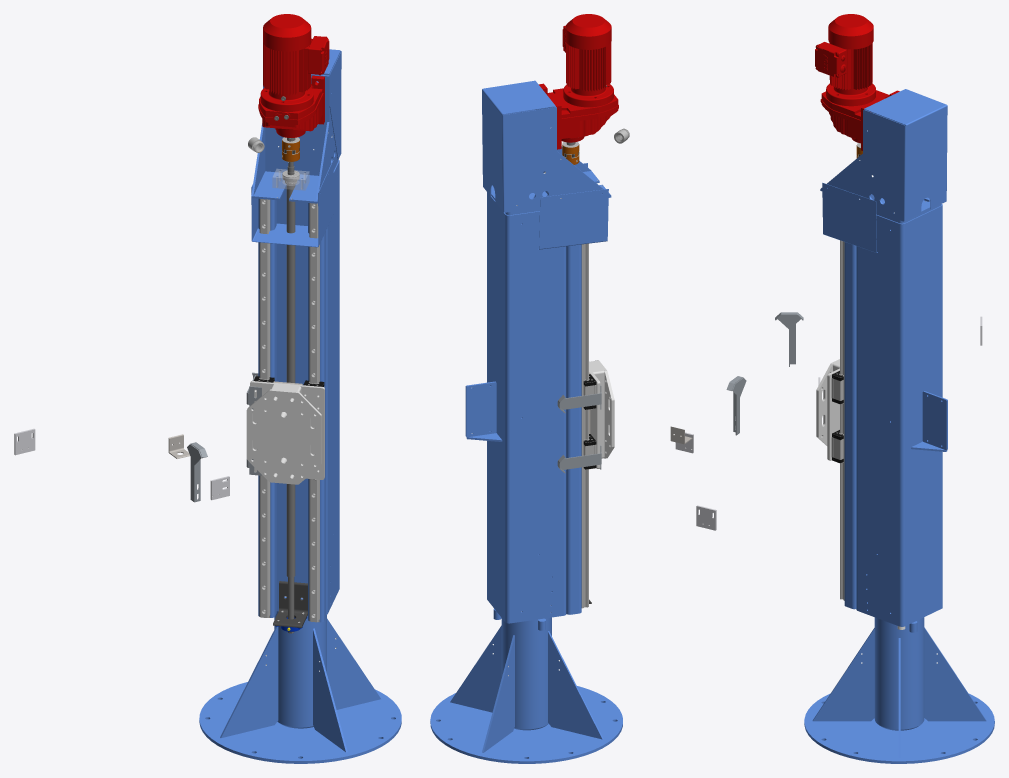
The model's file is CSL.glb.
3 renders of one model, left to right at view 1: azimuth 30°, elevation 25°; view 2: azimuth 150°, elevation 25°; view 3: azimuth 270°, elevation 25°, orthographic. The views are drawn at different scales.
Parts seen in each view (by area): view 1: CSL-001-1, CSL-003-2, MOTR-031.stp-1, CSL-004-B-2, CSL-006-1, BRNG-112-2, BRNG-112-1, 98940A119-1, CSL-011-1, CSL-004-A-2, CSL-010-1, CSL-016-1 (+1 smaller); view 2: CSL-003-2, CSL-001-1, CSL-010-1, MOTR-031.stp-1, CSL-011-1, CSL-006-1, BRNG-112-2, CSL-004-B-2, CSL-018-1, CSL-018-2, CSL-004-C-2, CSL-004-A-2; view 3: CSL-003-2, CSL-001-1, CSL-010-1, MOTR-031.stp-1, CSL-011-1, CSL-006-1, BRNG-112-1, CSL-004-B-2, CSL-004-A-2, CSL-008-1, BRNG-113-1, BRNG-113-4.
Part boxes in pixels (x1,y1,x2,y2): CSL-001-1: (199, 611, 401, 763); CSL-003-2: (258, 159, 339, 622); MOTR-031.stp-1: (258, 14, 329, 141); CSL-004-B-2: (246, 389, 321, 484); CSL-006-1: (251, 74, 337, 203); BRNG-112-2: (259, 199, 270, 617); BRNG-112-1: (309, 203, 319, 622); 98940A119-1: (286, 162, 295, 633); CSL-011-1: (251, 160, 333, 247); CSL-004-A-2: (250, 381, 324, 479); CSL-010-1: (322, 49, 341, 159); CSL-016-1: (273, 581, 307, 627); CSL-003-2: (465, 192, 581, 623); CSL-001-1: (430, 608, 622, 763); CSL-010-1: (482, 80, 556, 212); MOTR-031.stp-1: (539, 14, 618, 149); CSL-011-1: (539, 163, 608, 249); CSL-006-1: (491, 106, 611, 212); BRNG-112-2: (581, 243, 588, 608); CSL-004-B-2: (595, 360, 614, 458); CSL-018-1: (557, 445, 601, 473); CSL-018-2: (557, 385, 601, 413); CSL-004-C-2: (589, 361, 604, 458); CSL-004-A-2: (589, 368, 600, 468); CSL-003-2: (844, 200, 947, 629); CSL-001-1: (804, 617, 994, 763); CSL-010-1: (863, 89, 947, 221); MOTR-031.stp-1: (815, 14, 899, 150); CSL-011-1: (822, 182, 876, 252); CSL-006-1: (820, 110, 930, 221); BRNG-112-1: (840, 240, 844, 600); CSL-004-B-2: (816, 359, 839, 445); CSL-004-A-2: (827, 368, 839, 460); CSL-008-1: (775, 312, 803, 366); BRNG-113-1: (831, 371, 843, 404); BRNG-113-4: (831, 430, 843, 463).
Bounding box in the file's own units: 1.15 × 2.42 × 0.7032.
